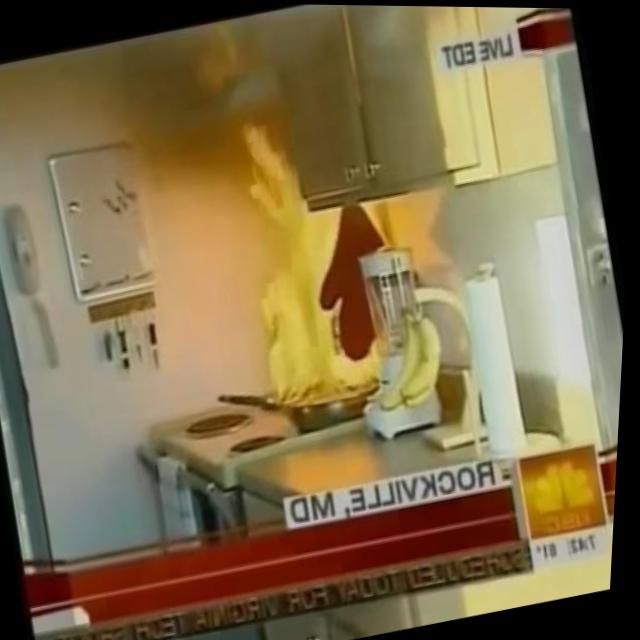fire: (231, 148, 380, 407)
